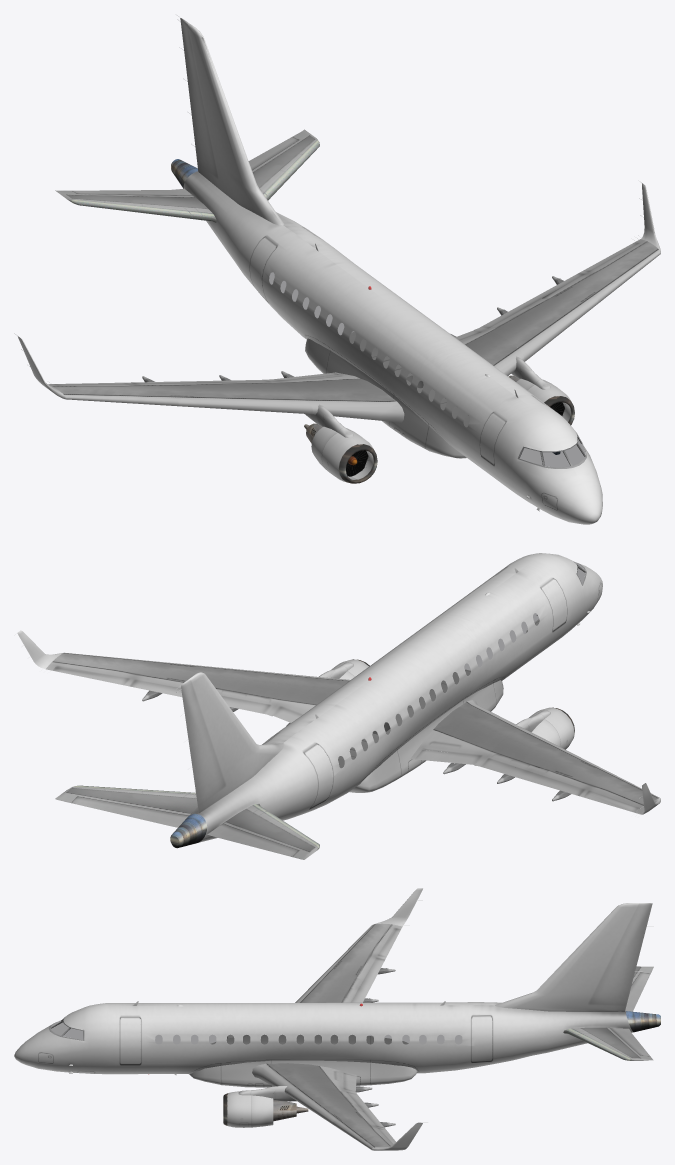
The picture shows the model from 3 angles, top to bottom: view 1: azimuth 30°, elevation 25°; view 2: azimuth 150°, elevation 25°; view 3: azimuth 270°, elevation 25°; orthographic projection. The views are drawn at different scales.
Visible parts, largest first — view 1: fuselage, vstab, hstab, wing.002, wing.005, wing.003, fuselage.001, wing.008, wing.009, rudder, nacelle, wing.006 (+5 smaller); view 2: fuselage, vstab, hstab, fuselage.001, wing.005, wing.002, wing.003, rudder, wing.008, wing.009, wing.006, elevator.l (+11 smaller); view 3: fuselage, vstab, fuselage.001, rudder, wing.006, wing.003, wing.002, hstab, wing.009, cylinder.003, door.l1, wing.008 (+11 smaller).
Part boxes in pixels (x1,y1,x2,y2): fuselage: (183, 171, 602, 524); vstab: (188, 23, 283, 225); hstab: (55, 129, 319, 222); wing.002: (479, 281, 598, 361); wing.005: (268, 372, 404, 423); wing.003: (153, 379, 312, 414); fuselage.001: (305, 332, 469, 458); wing.008: (572, 239, 660, 303); wing.009: (48, 382, 178, 406); rudder: (177, 15, 218, 178); nacelle: (321, 430, 377, 483); wing.006: (459, 328, 524, 375); fuselage: (189, 553, 602, 842); vstab: (189, 672, 284, 813); hstab: (55, 785, 319, 859); fuselage.001: (338, 669, 503, 792); wing.005: (410, 700, 522, 766); wing.002: (153, 663, 309, 714); wing.003: (479, 728, 596, 785); rudder: (177, 679, 226, 805); wing.008: (46, 652, 176, 686); wing.009: (572, 766, 659, 814); wing.006: (267, 676, 350, 716); elevator.l: (65, 794, 184, 827); fuselage: (14, 1001, 633, 1075); vstab: (495, 903, 638, 1011); fuselage.001: (189, 1034, 417, 1087); rudder: (588, 903, 653, 1005); wing.006: (252, 1063, 356, 1094); wing.003: (295, 962, 372, 1002); wing.002: (286, 1086, 372, 1124); hstab: (563, 966, 653, 1060); wing.009: (334, 923, 402, 964); cylinder.003: (155, 1035, 462, 1044); door.l1: (120, 1016, 141, 1063); wing.008: (332, 1119, 392, 1149).
Size of the model in its own units: 25.56 by 9.46 by 29.8.
9 materials, 5 textured.
